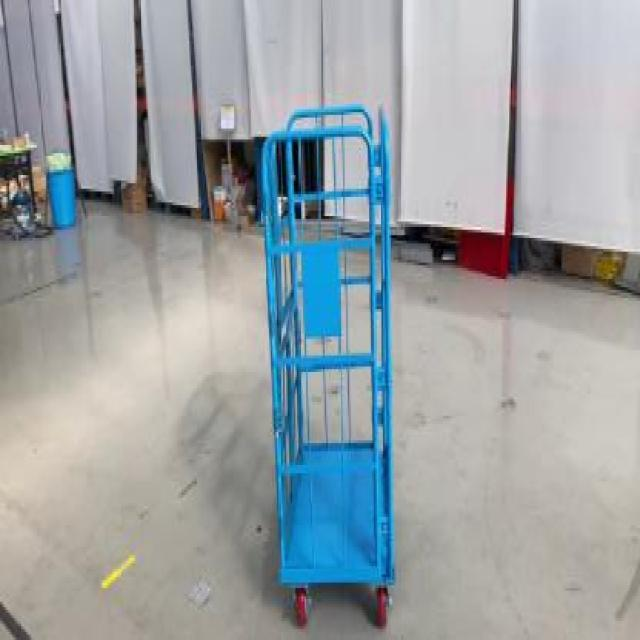cart: (263, 96, 400, 637)
